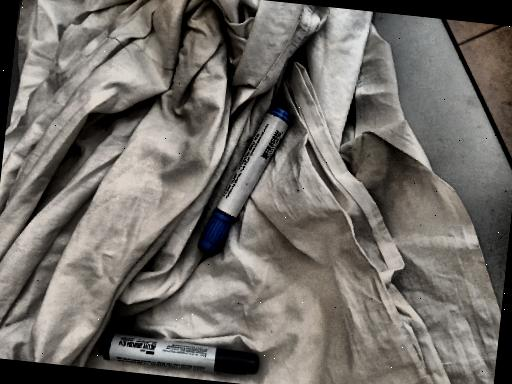marcador azul: (198, 107, 290, 254)
marcador negro: (99, 332, 259, 374)
